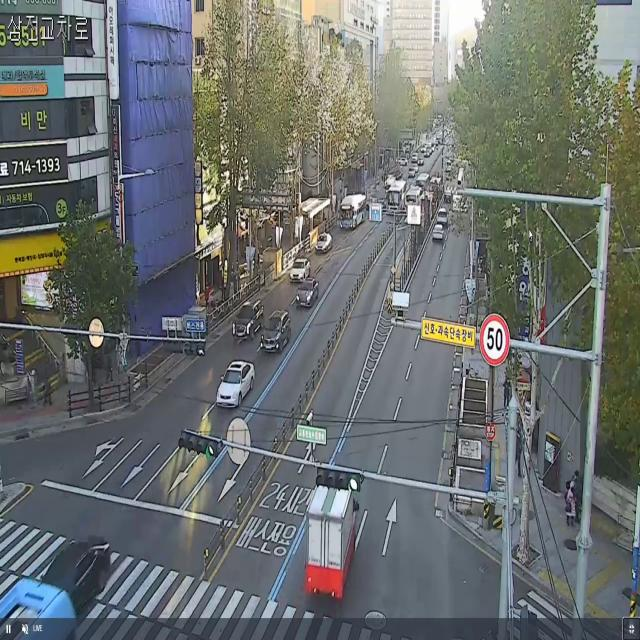car: (337, 187, 370, 236)
motorcycle: (215, 359, 258, 411), (259, 306, 295, 359), (291, 272, 324, 314)
truck: (298, 473, 360, 605)
